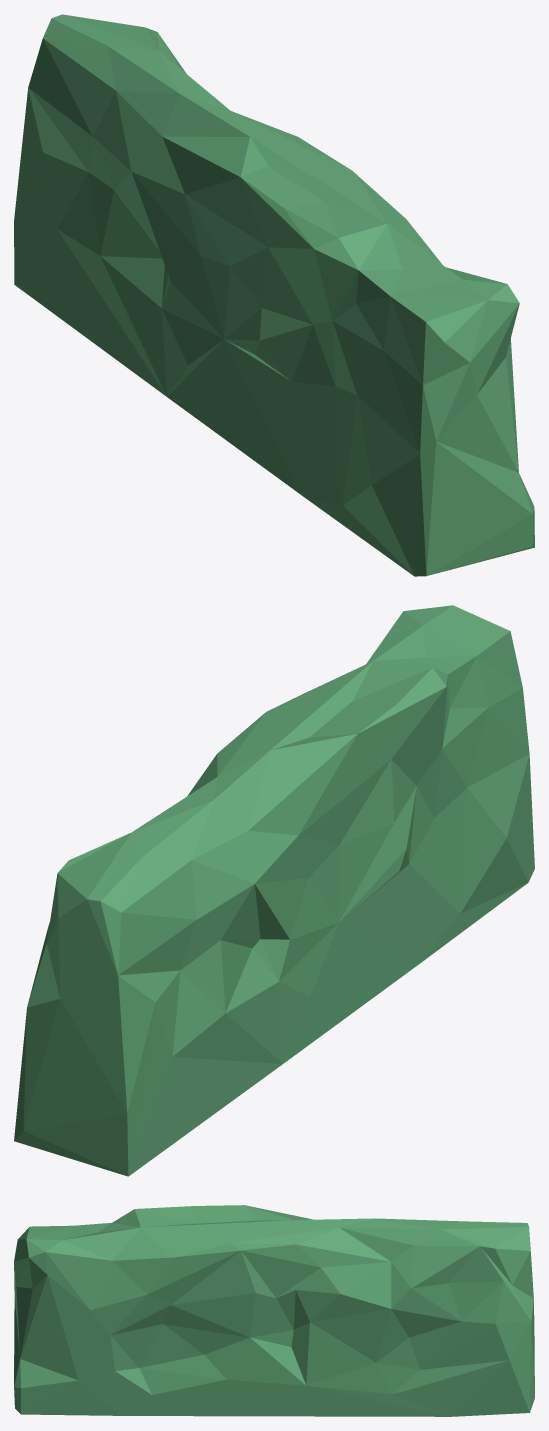
Rendered from Hedge1.fbx.
3 renders of one model, top to bottom at view 1: azimuth 30°, elevation 25°; view 2: azimuth 150°, elevation 25°; view 3: azimuth 270°, elevation 25°, orthographic. The views are drawn at different scales.
Visible parts, largest first — view 1: Hedge1; view 2: Hedge1; view 3: Hedge1.
Boxes of the visible parts, bbox=[...] form: Hedge1: bbox=[14, 14, 534, 576]; Hedge1: bbox=[14, 605, 534, 1176]; Hedge1: bbox=[14, 1205, 534, 1416].
Bounding box in the file's own units: 120 × 233 × 631.
